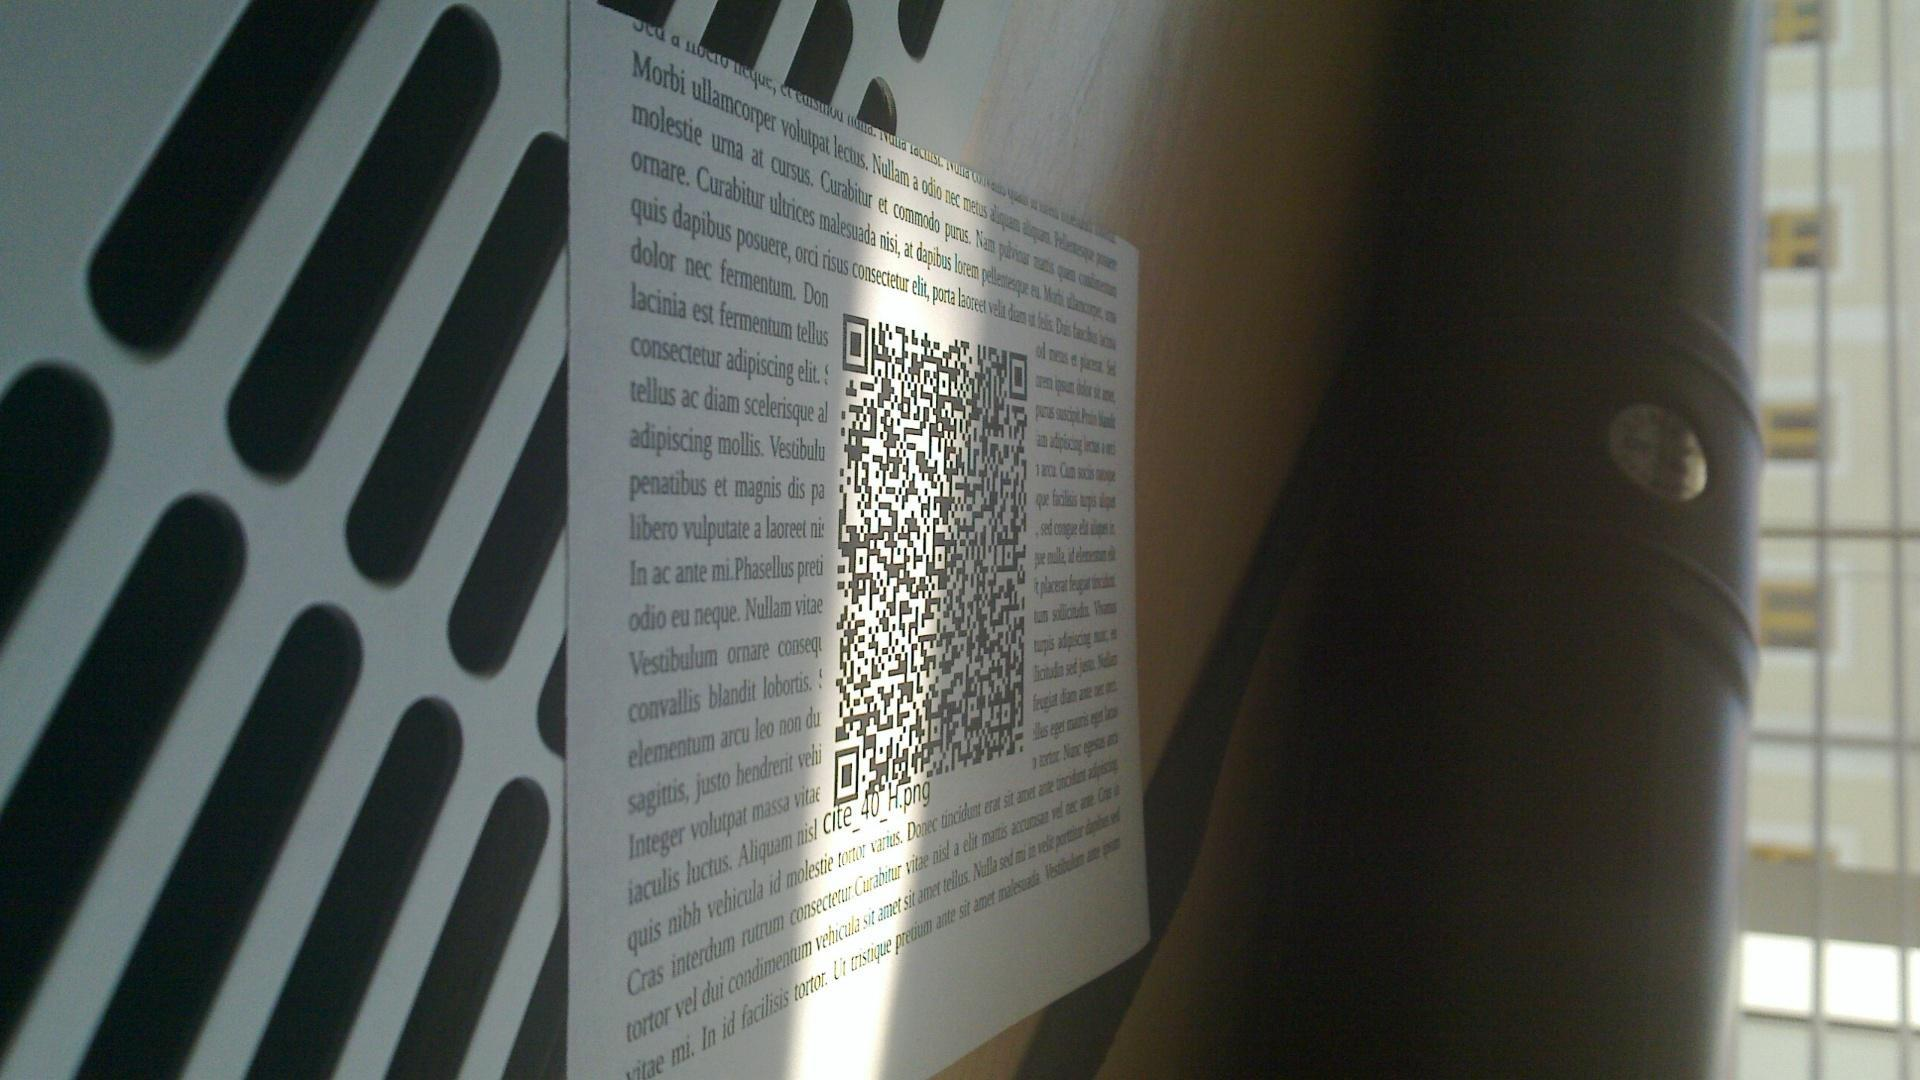Finder pattern: (837, 305, 876, 377), (828, 737, 862, 814), (1004, 345, 1033, 407)
